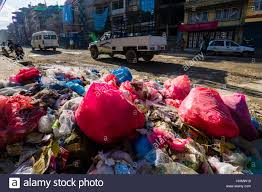garbage: (4, 66, 191, 174), (41, 89, 251, 172)
